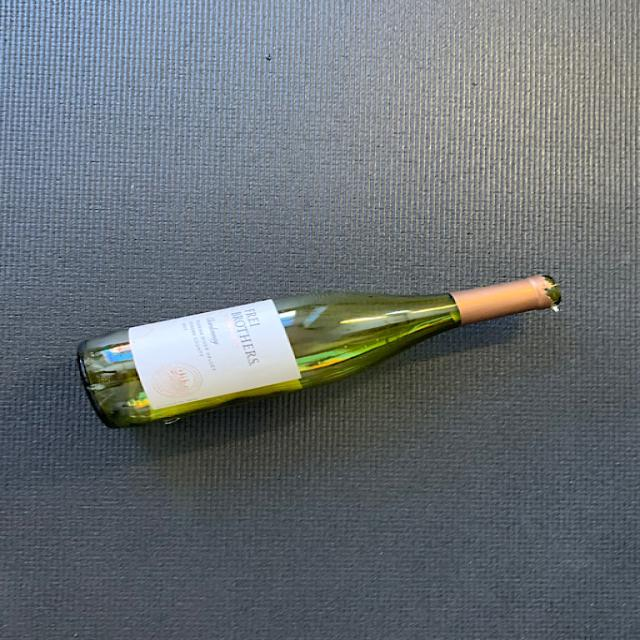litter: (67, 258, 574, 430)
